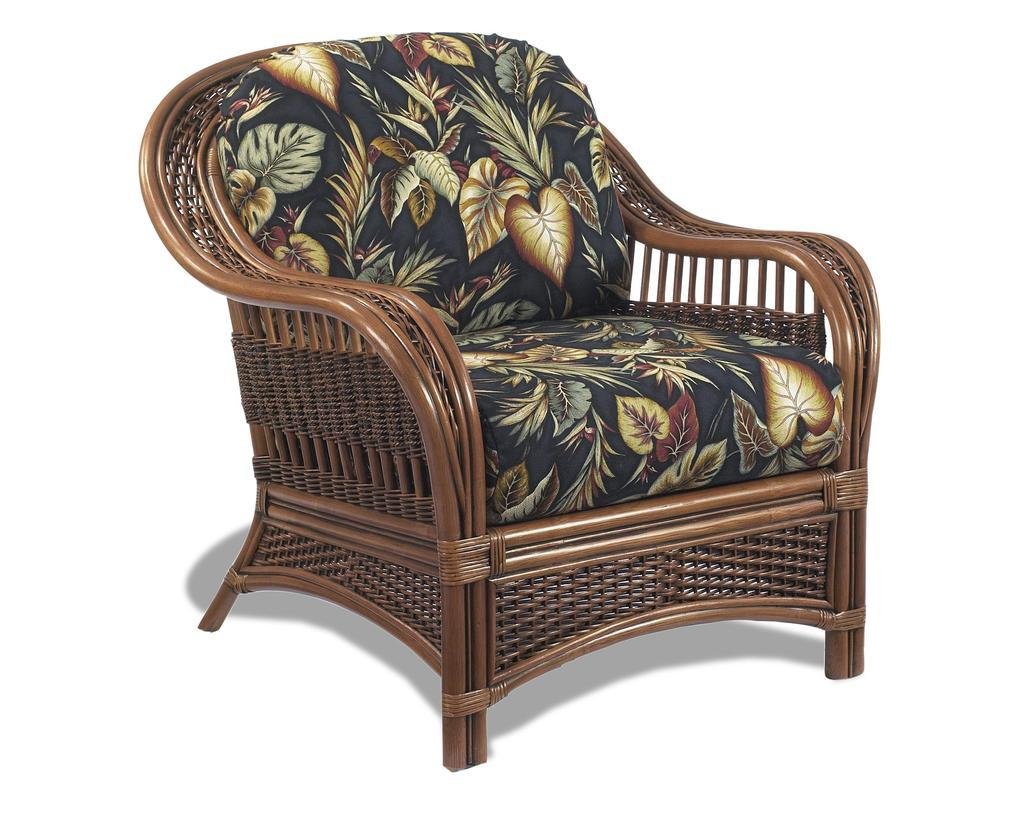Chair: (131, 28, 881, 775)
